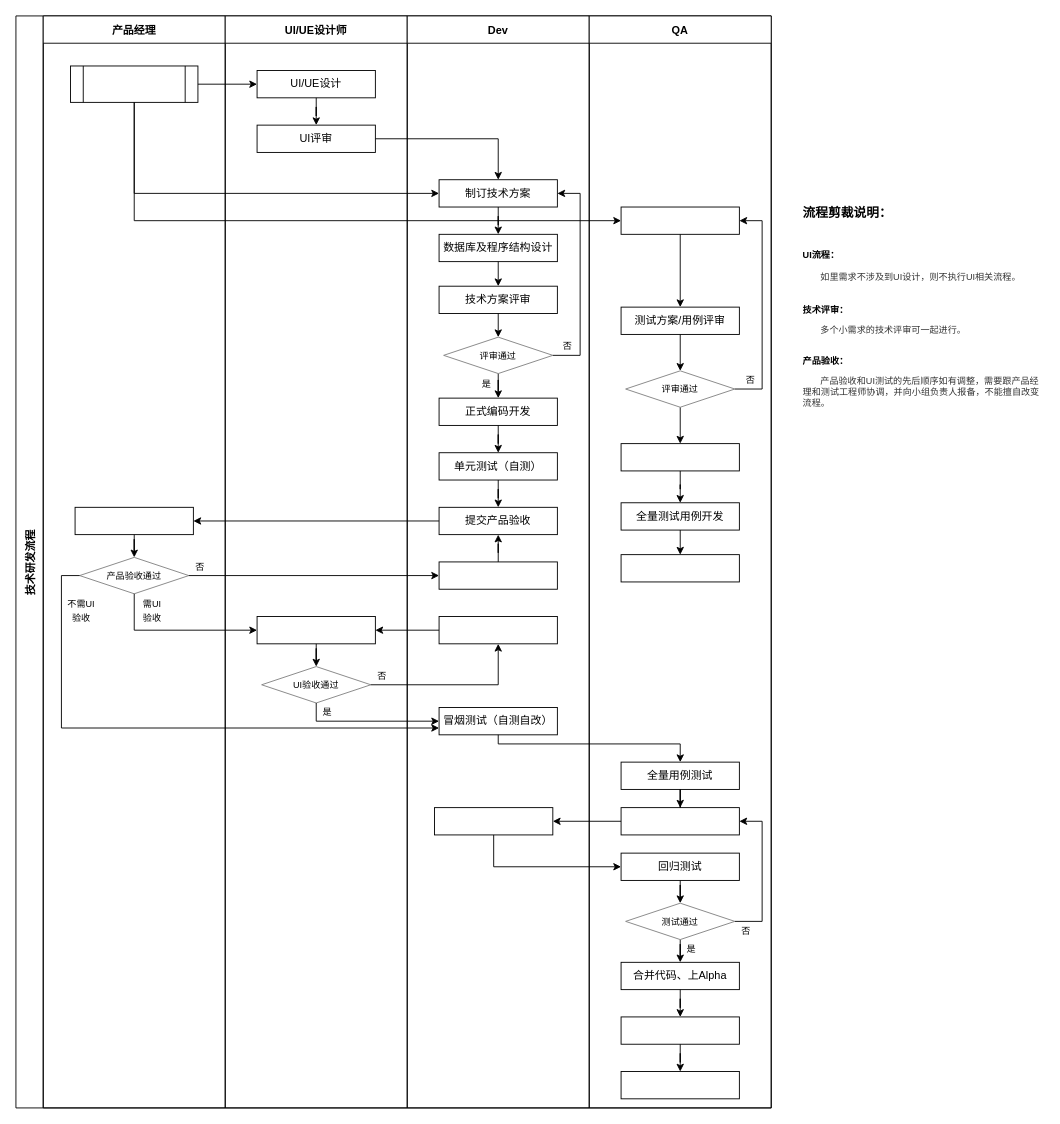
This 1060x1124 diagram has some shape labels left out. The shapes that lost their labels are listed below. From the top down, each one's centre as x and y in pixels, then its label:
At [134,83]: "产品需求方案评审".
At [679,220]: "制订测试方案".
At [679,457]: "冒烟测试用例开发".
At [133,520]: "产品需求验收".
At [497,575]: "需求问题修改".
At [679,568]: "测试环境和数据准备".
At [315,630]: "UI验收".
At [497,630]: "UI问题修改".
At [493,821]: "解决Bug并重新提测".
At [679,821]: "反馈Bug".
At [679,1030]: "线上环境验收".
At [679,1085]: "正式发布".
